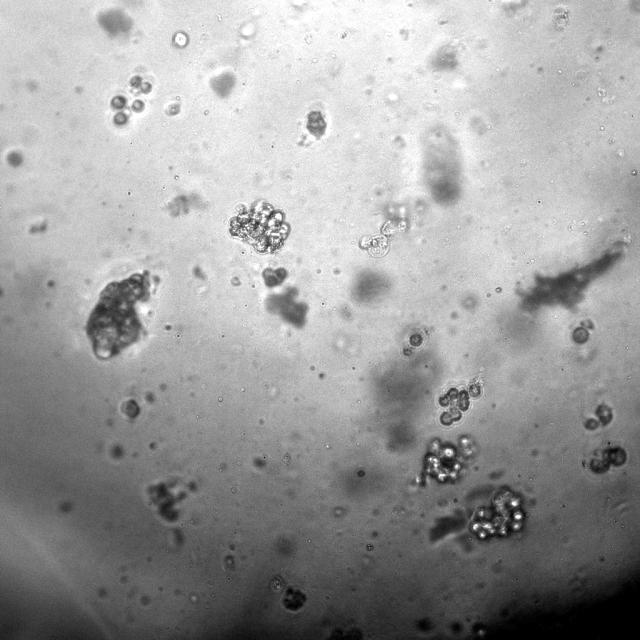organoid: (517, 248, 622, 310), (86, 270, 151, 359), (229, 200, 290, 254), (416, 435, 476, 487), (469, 486, 524, 540), (146, 476, 196, 524), (437, 378, 484, 426), (359, 214, 408, 257), (109, 95, 144, 126), (589, 446, 626, 473), (583, 403, 612, 430), (282, 586, 306, 612), (307, 110, 327, 137), (402, 333, 423, 356), (263, 267, 287, 287), (129, 75, 152, 94), (121, 398, 139, 418), (269, 574, 286, 592), (172, 31, 189, 49), (572, 326, 589, 343), (164, 101, 181, 116), (356, 468, 367, 478), (366, 543, 374, 551)
